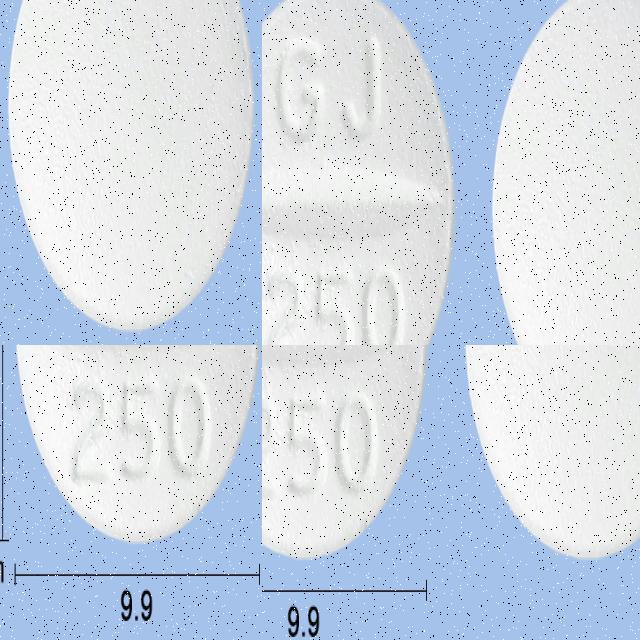Lesacra: (14, 345, 258, 538)
Levona -500mg: (262, 0, 455, 345), (491, 0, 640, 345)
Newloxacin Tab: (463, 345, 640, 558), (262, 345, 426, 558)
Zithromax Tab: (0, 166, 122, 345), (229, 169, 262, 345)
